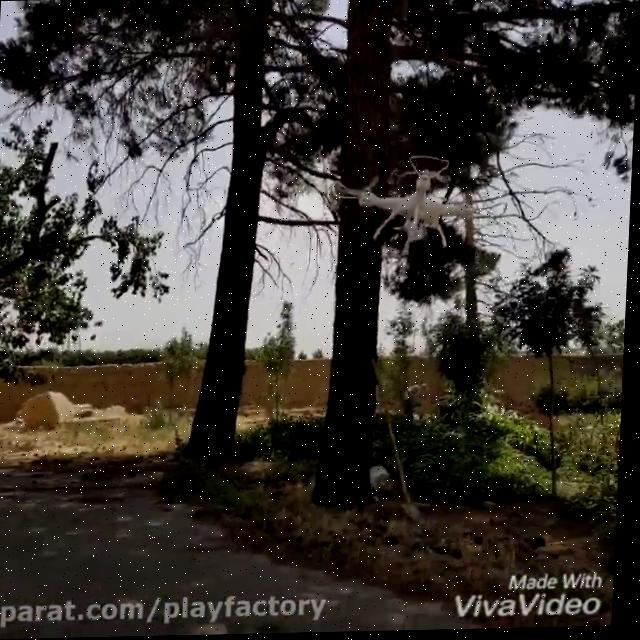drone: (328, 152, 499, 258)
